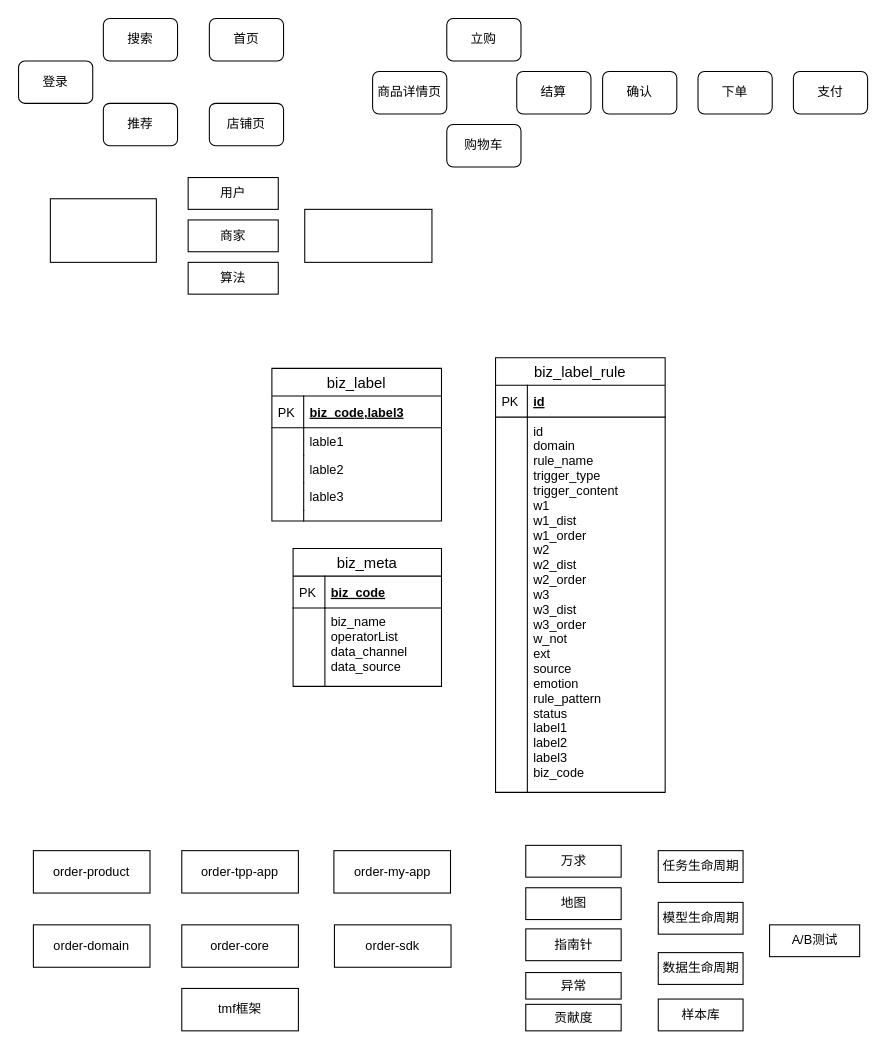
This 886x1049 diagram has some shape labels left out. The centre of each missing label's shape, as x and y in pixels:
人群画像: the point at 102,230
问卷投放: the point at 368,235
